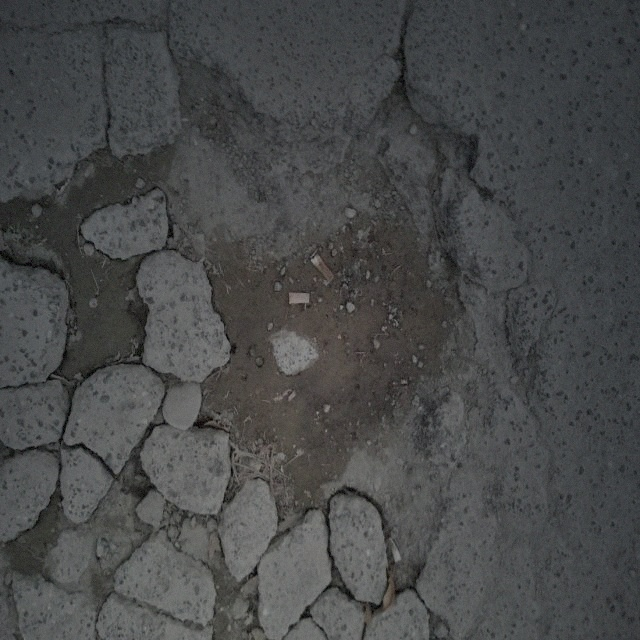pothole: (160, 75, 497, 524), (8, 127, 180, 387)
